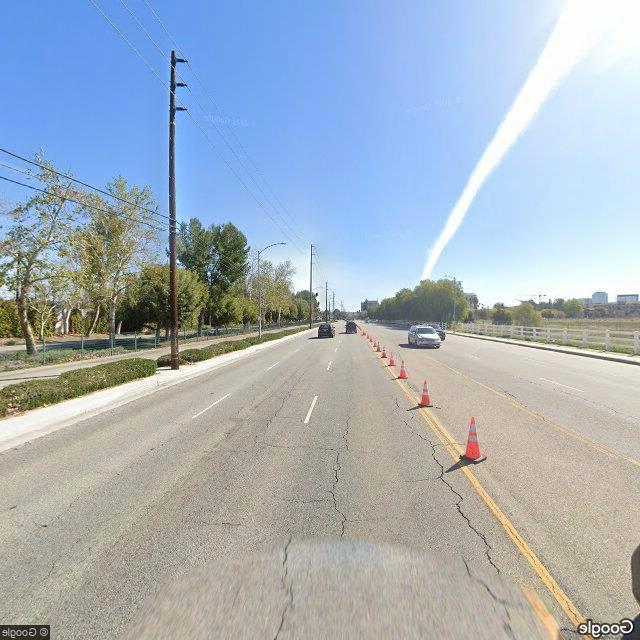crack: (396, 395, 514, 617), (328, 411, 359, 537), (267, 535, 301, 639), (260, 367, 307, 437)
